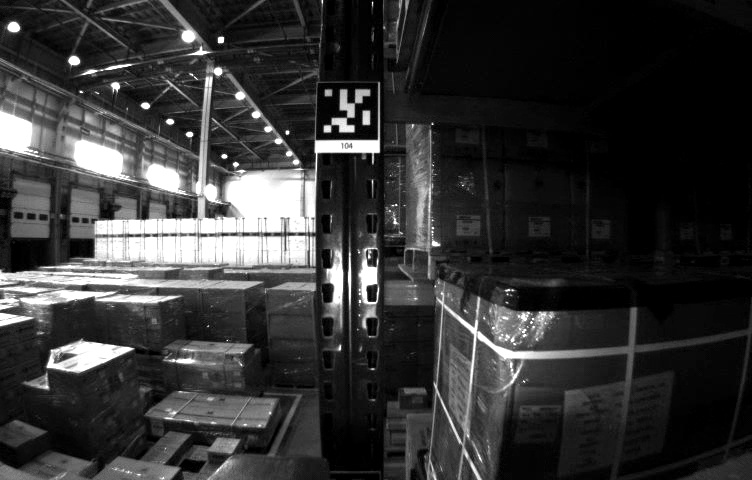True Barcode: (515, 403, 559, 442)
